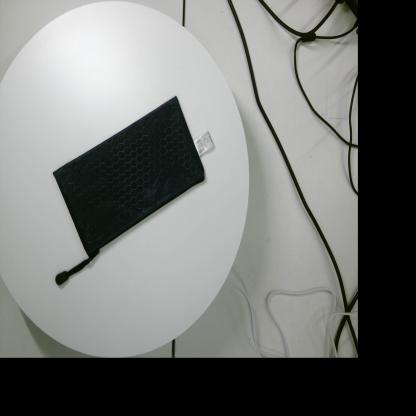Stationery: (53, 95, 214, 286)
